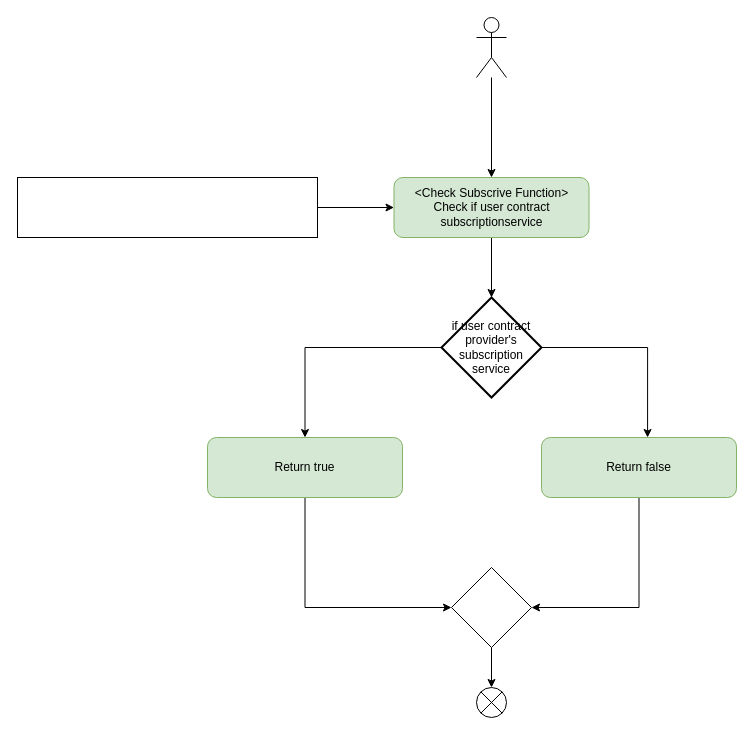
Image size: 754x735. Some labels were removed from this diagram. Here are the shapes that lost their labels. From the top down, the centre of each, then its label:
the point at 491,47: Provider
the point at 167,207: Get user/service/active from subscription account of user.
